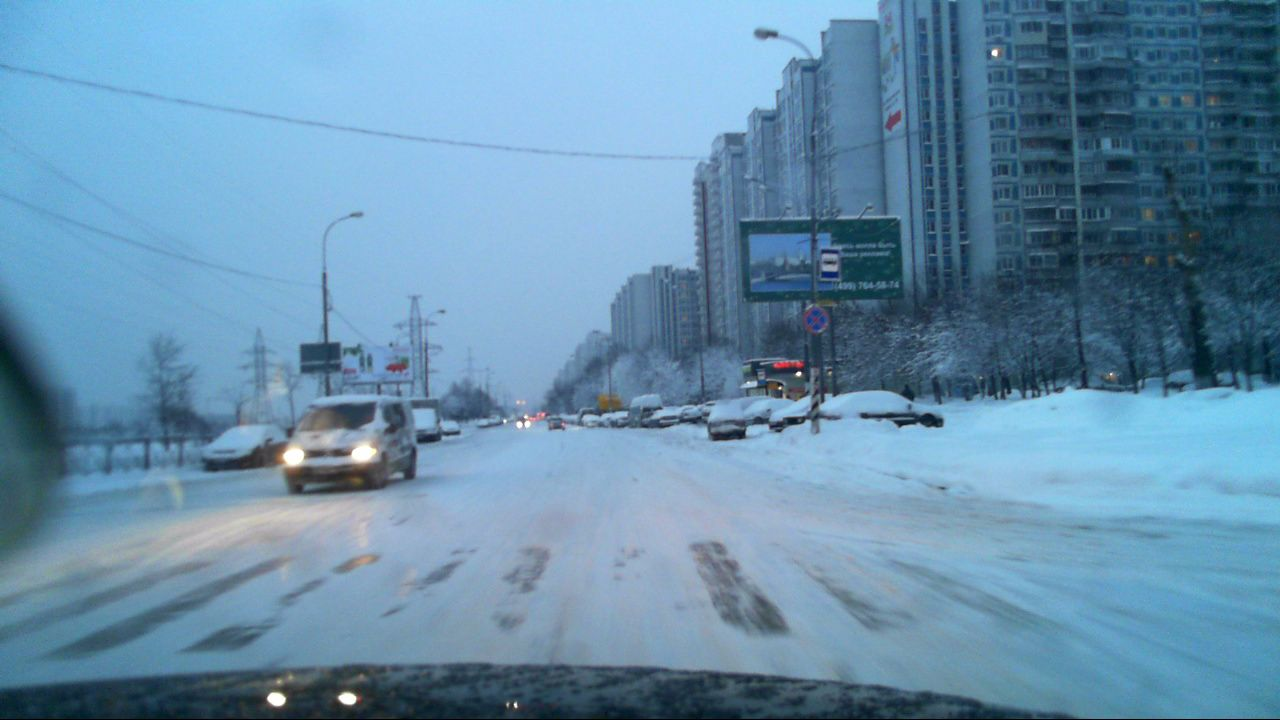No Parking: (799, 299, 831, 334)
